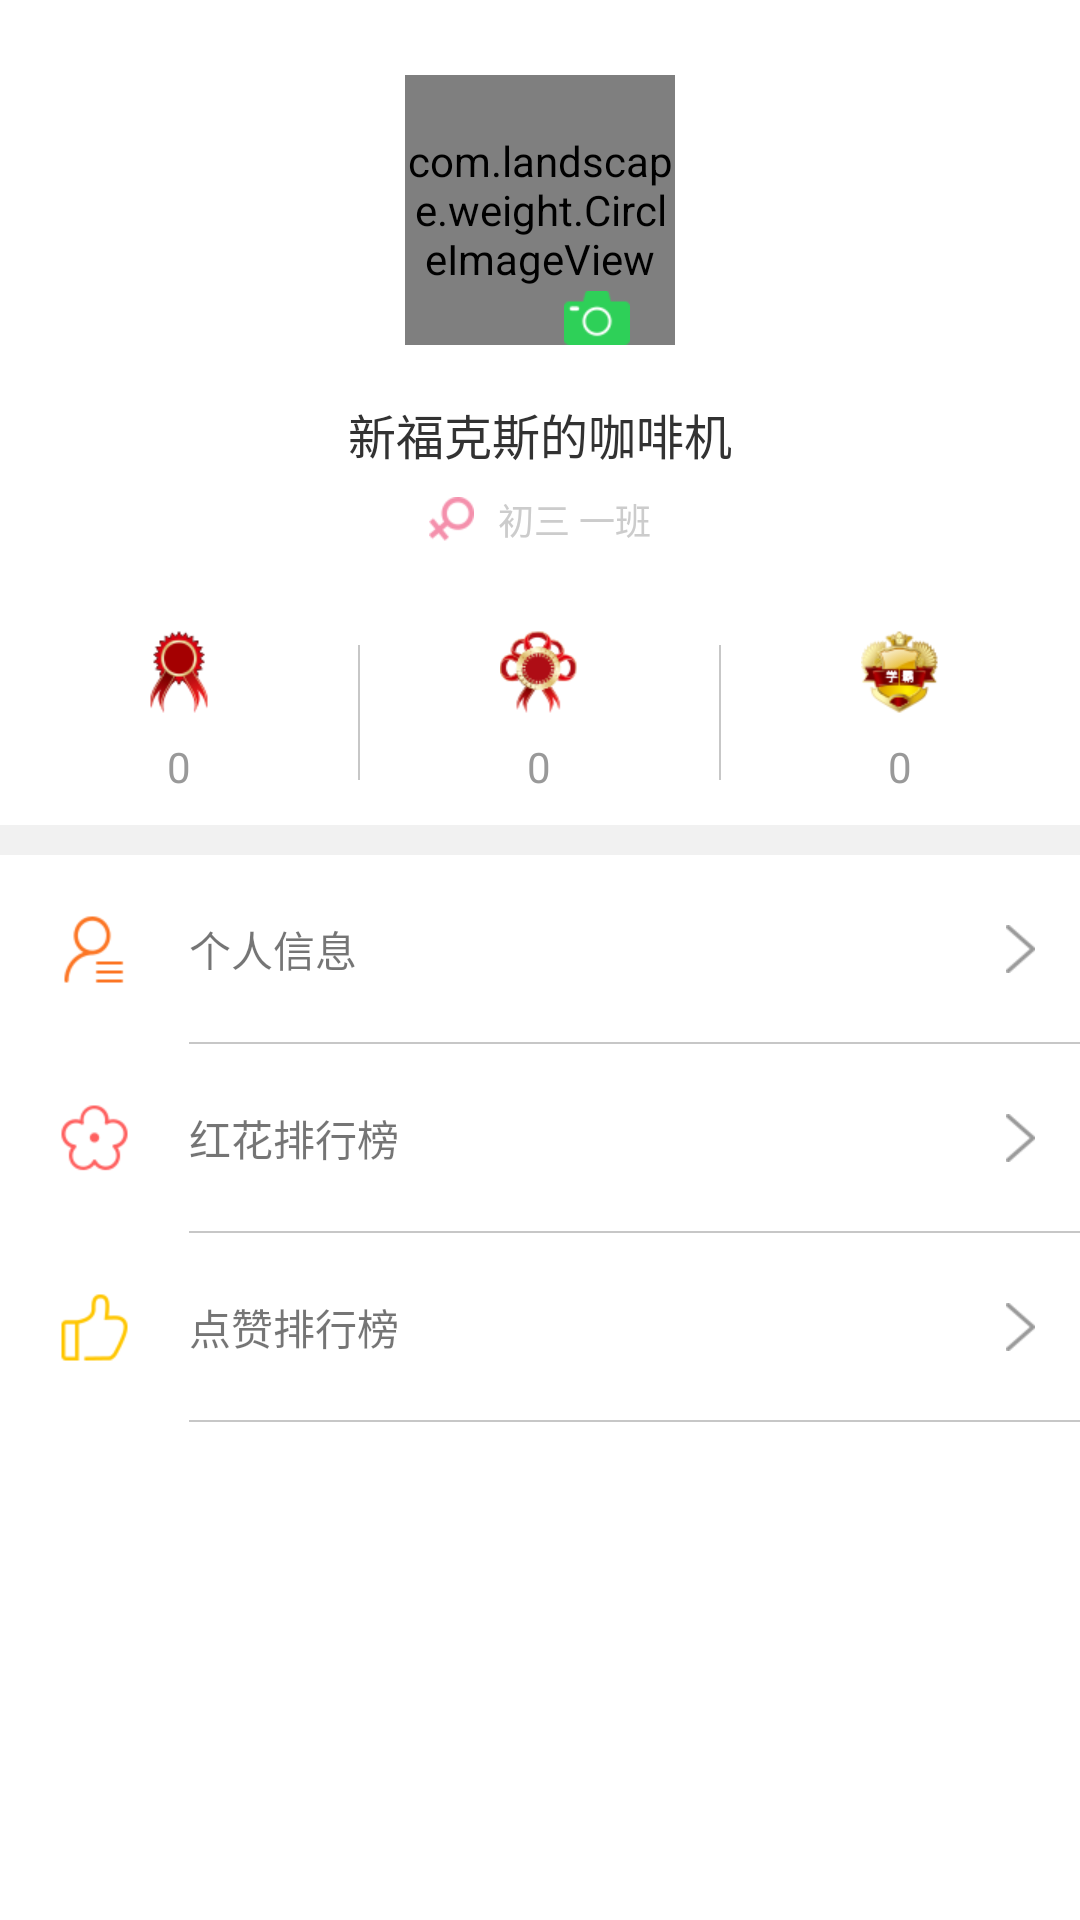

Named icons in this screenshot (1080px x 1920px) and their centers, (x,y):
arrow: (1020,949), (1020,1138), (1020,1327)
user camera: (597,318)
user modify: (94,949)
